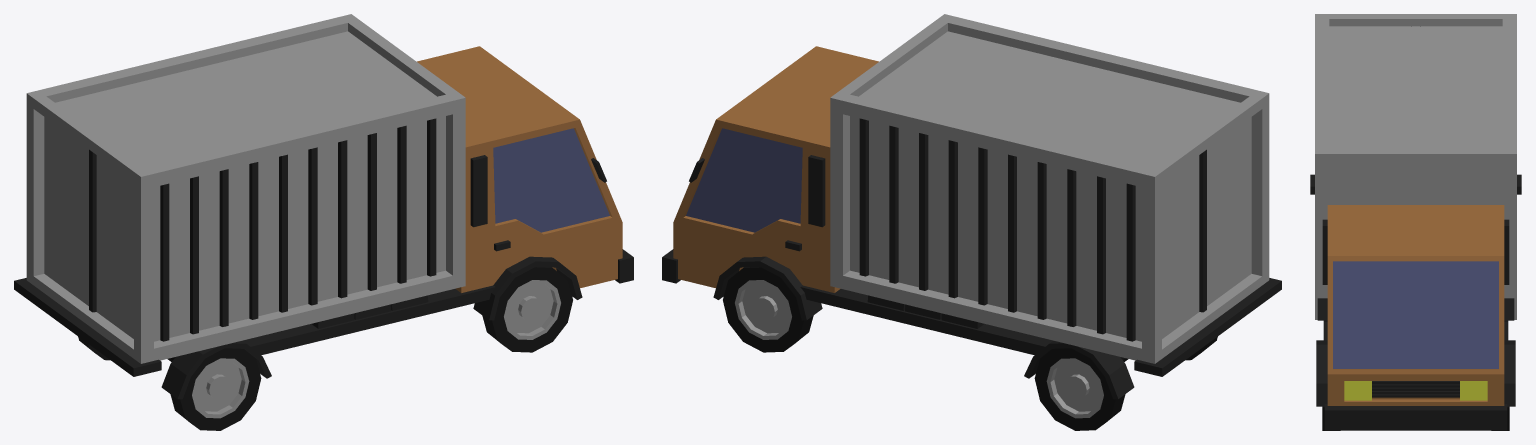
The model's file is low_poly_truck.glb.
The picture shows the model from 3 angles, left to right: view 1: azimuth 30°, elevation 25°; view 2: azimuth 150°, elevation 25°; view 3: azimuth 270°, elevation 25°; orthographic projection. The views are drawn at different scales.
Visible parts, largest first — view 1: Cube.002; view 2: Cube.002; view 3: Cube.002.
Part boxes in pixels (x1=…): Cube.002: x1=14, y1=14, x2=633, y2=430; Cube.002: x1=662, y1=14, x2=1281, y2=430; Cube.002: x1=1310, y1=14, x2=1521, y2=430.
Bounding box in the file's own units: 630 × 329 × 257.
